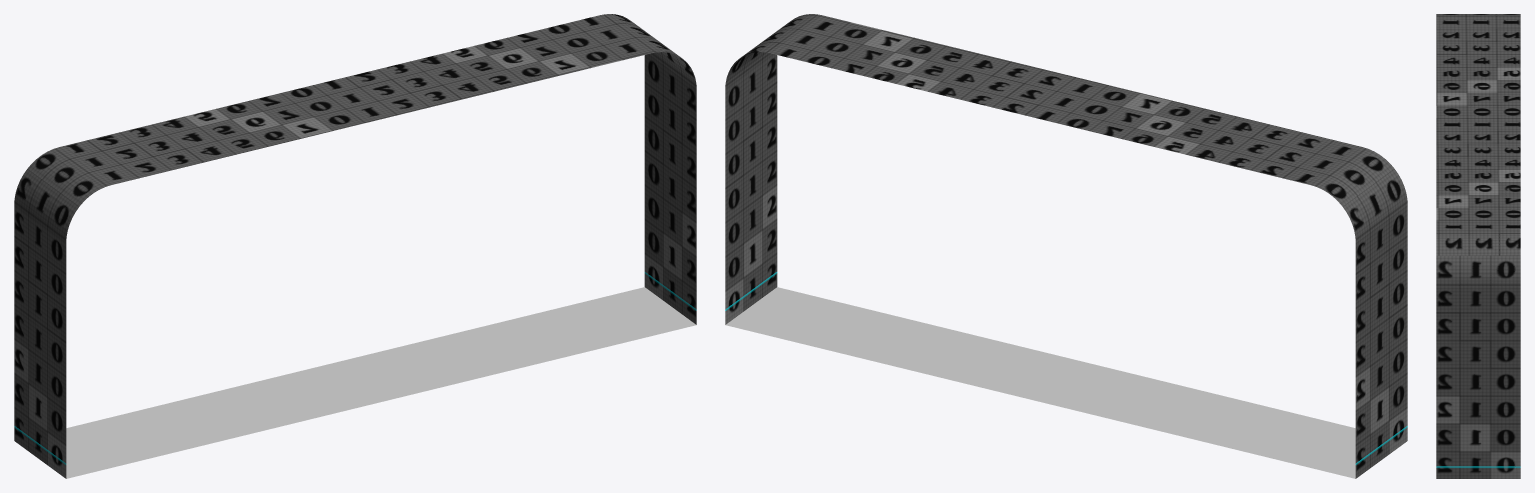
Rendered from WallFrameRound700x300x100cm.FBX.
3 views of the same model, side by side, from view 1: azimuth 30°, elevation 25°; view 2: azimuth 150°, elevation 25°; view 3: azimuth 270°, elevation 25° (orthographic). The views are drawn at different scales.
Parts seen in each view (by area): view 1: WallFrameRound700x100cm; view 2: WallFrameRound700x100cm; view 3: WallFrameRound700x100cm.
Boxes of the visible parts, x1,y1,x2,y2 form: WallFrameRound700x100cm: (14, 14, 696, 478); WallFrameRound700x100cm: (725, 14, 1407, 478); WallFrameRound700x100cm: (1436, 14, 1520, 478).
Size of the model in its own units: 700 by 300 by 100.
